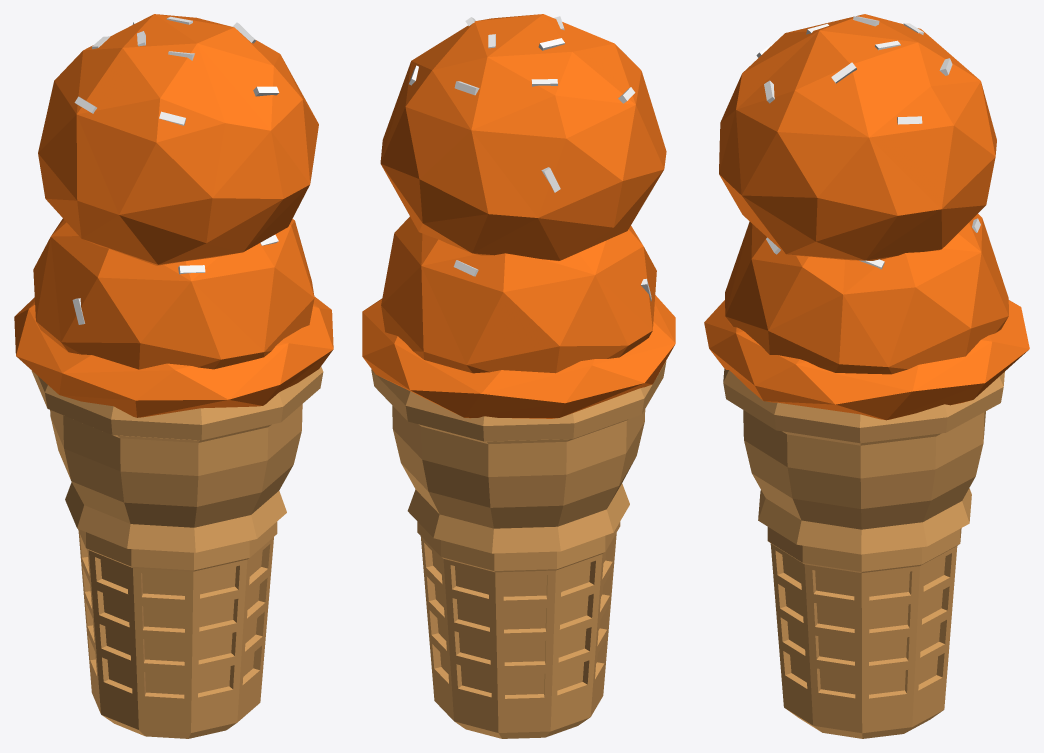
File: IceCream_4.obj
The picture shows the model from 3 angles, left to right: view 1: azimuth 30°, elevation 25°; view 2: azimuth 150°, elevation 25°; view 3: azimuth 270°, elevation 25°; orthographic projection.
Parts seen in each view (by area): view 1: IceCream_4_Orange, IceCream_4_LightYellow, IceCream_4_White; view 2: IceCream_4_Orange, IceCream_4_LightYellow, IceCream_4_White; view 3: IceCream_4_Orange, IceCream_4_LightYellow, IceCream_4_White.
Part boxes in pixels (bbox=[...]): IceCream_4_Orange: bbox=[14, 14, 333, 417]; IceCream_4_LightYellow: bbox=[31, 366, 323, 738]; IceCream_4_White: bbox=[72, 16, 279, 324]; IceCream_4_Orange: bbox=[362, 14, 675, 418]; IceCream_4_LightYellow: bbox=[371, 361, 666, 738]; IceCream_4_White: bbox=[409, 16, 651, 301]; IceCream_4_Orange: bbox=[704, 14, 1029, 420]; IceCream_4_LightYellow: bbox=[723, 368, 1004, 738]; IceCream_4_White: bbox=[756, 16, 980, 269].
Bounding box in the file's own units: 0.5155 × 1.18 × 0.5155.
